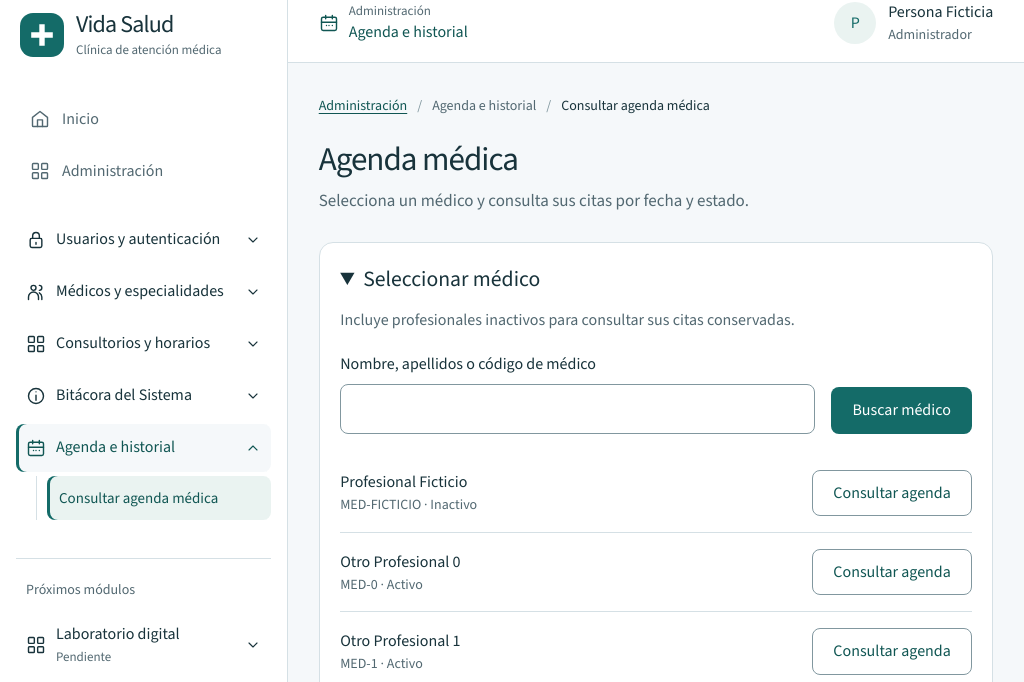
it: Administrador listado → detalle → volver conserva solo criterios y reconsulta datos
What coordinates should you click on to do the following:
click the button with aria-label "Consultar agenda de Profesional Ficticio"
I would click on:
 (892, 493)
Its box is [812, 470, 972, 516].
(page scrolled)
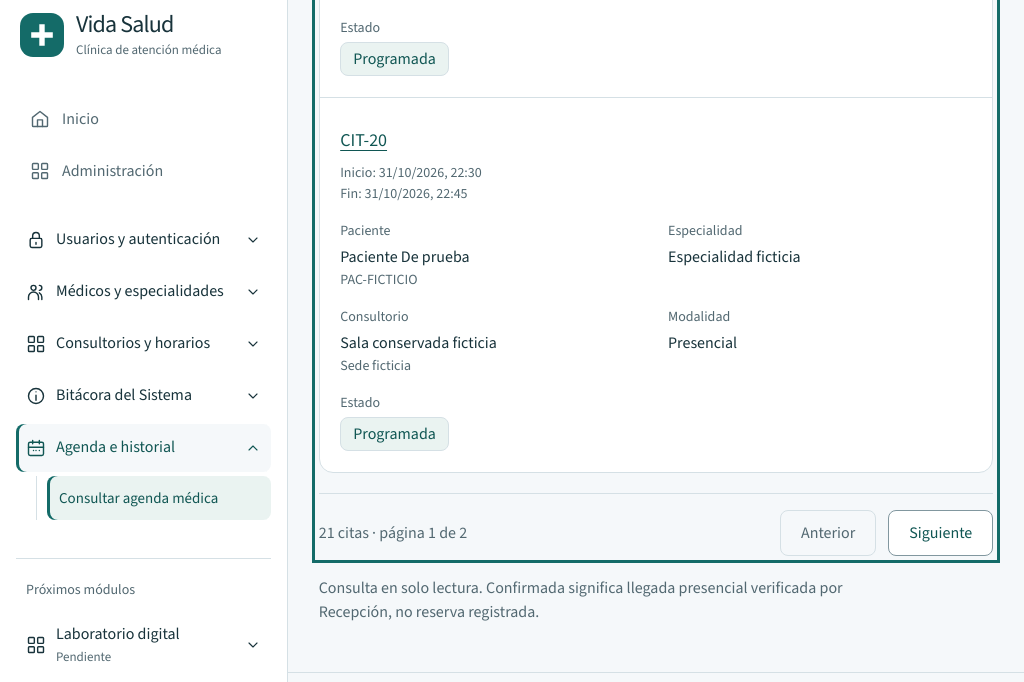
What coordinates should you click on to do the following:
click the button "Siguiente"
I would click on:
 (941, 533)
Its box is [888, 510, 993, 556].
(page scrolled)
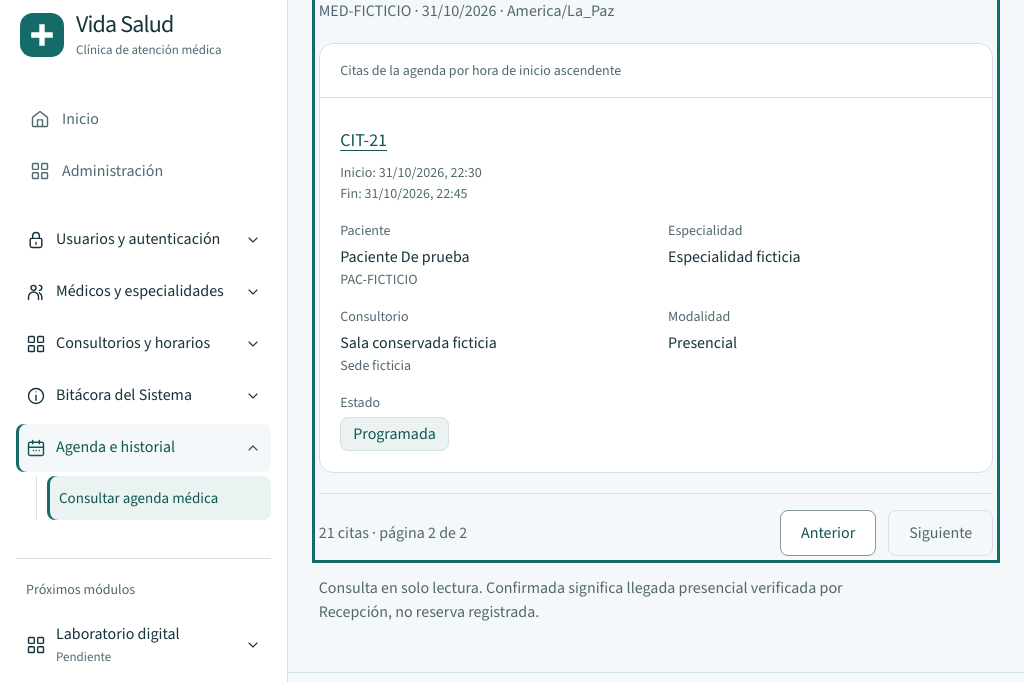
What coordinates should you click on to do the following:
click the link with aria-label "Ver cita CIT-21"
I would click on:
 (364, 140)
Its box is [340, 128, 387, 152].
(page scrolled)
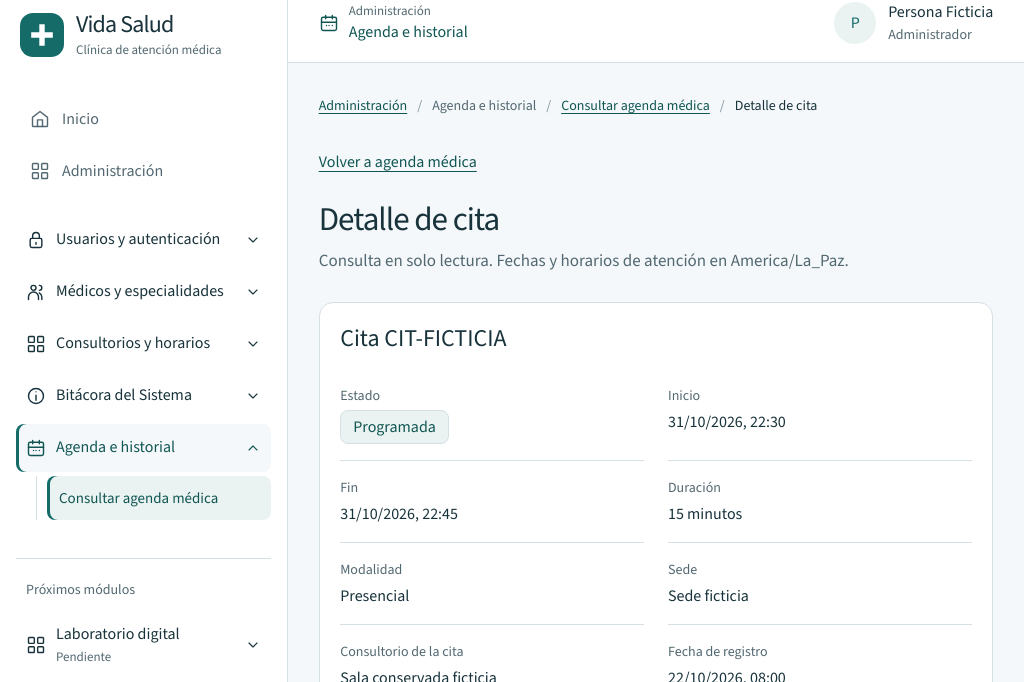
What coordinates should you click on to do the following:
click the link "Volver a agenda médica"
I would click on:
 (398, 162)
Its box is [319, 151, 477, 172].
(page scrolled)
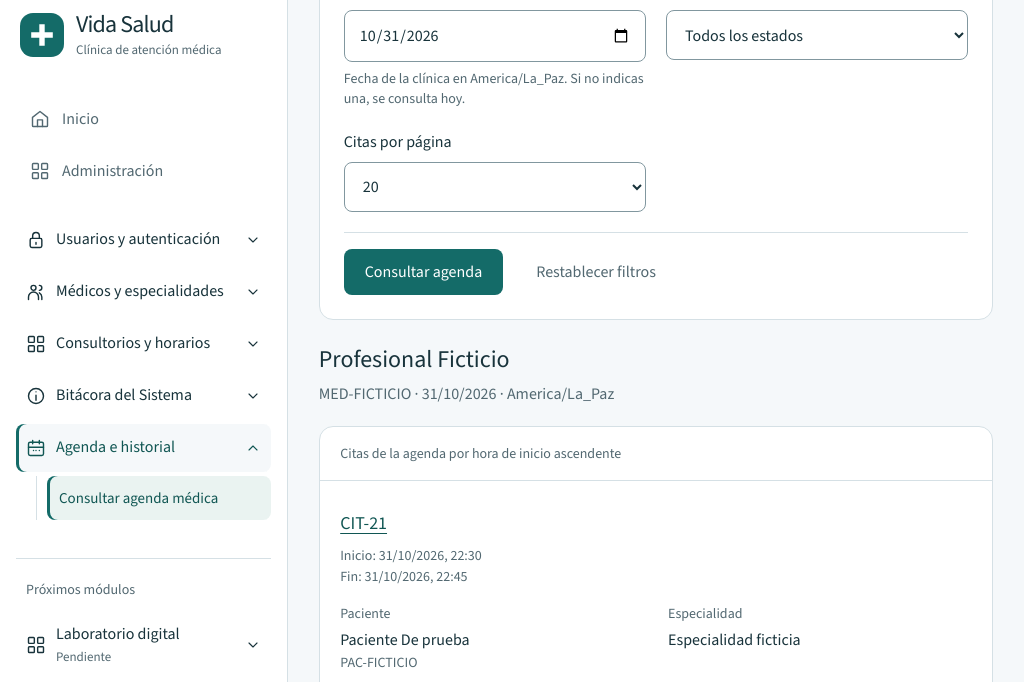
expect the link with aria-label "Ver cita CIT-21" is shown: met, box [340, 511, 387, 535]
